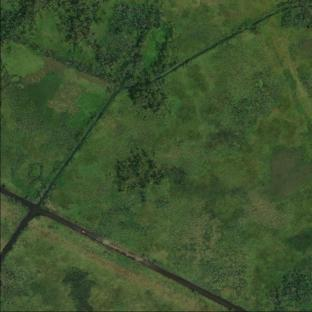Floresta: (94, 2, 161, 83), (129, 81, 166, 113)
